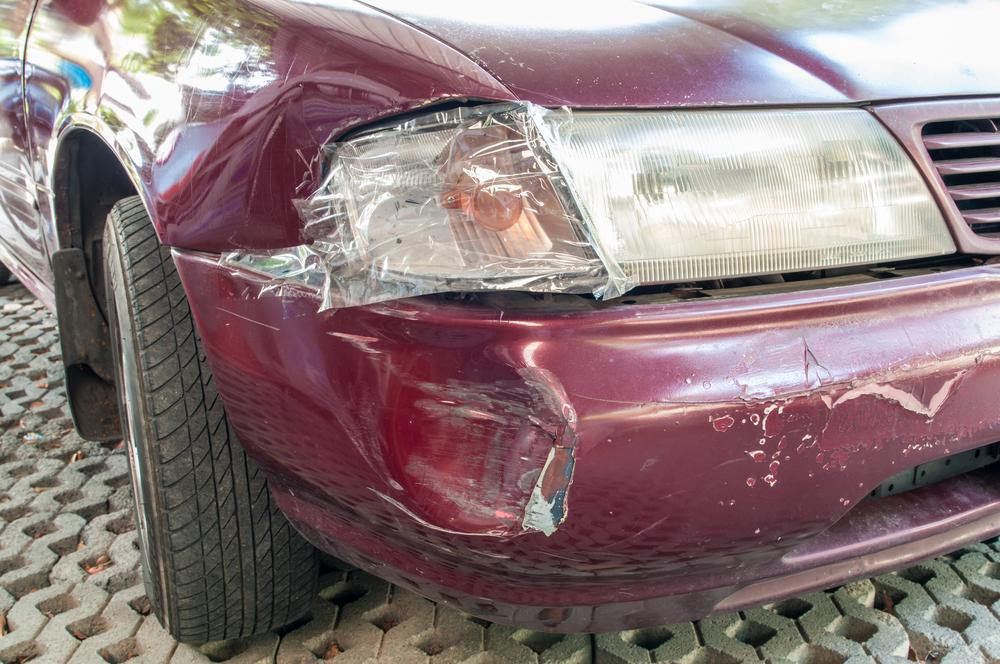dent: (171, 82, 387, 250), (384, 344, 568, 529)
